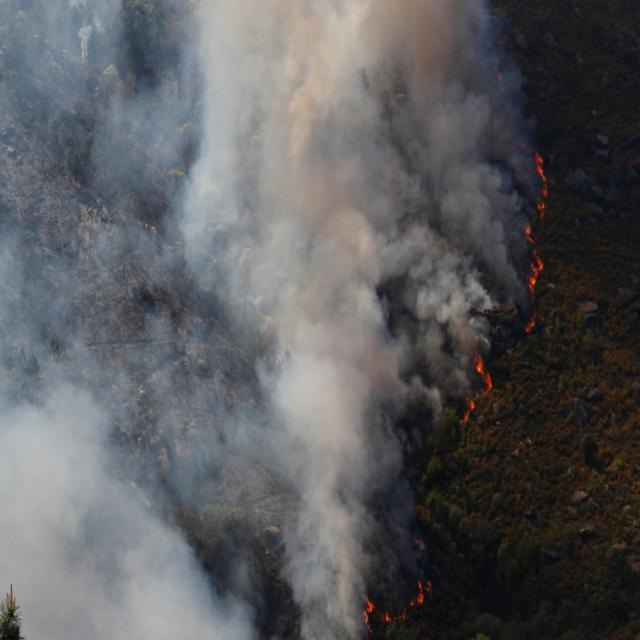Smoke: (230, 29, 368, 307), (36, 443, 176, 640)
